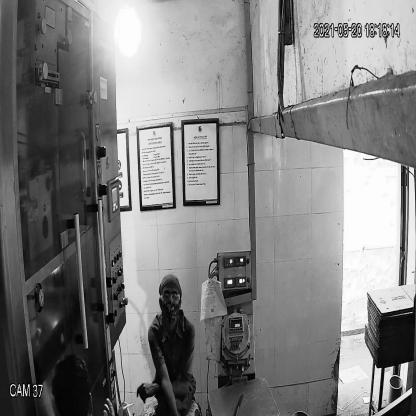goggles: (160, 285, 182, 309)
